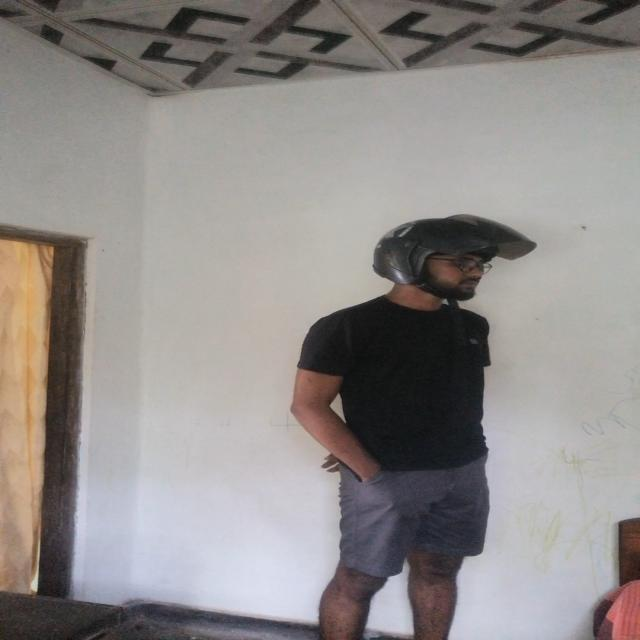Helmet_Wearer: (364, 214, 536, 323)
Person: (286, 213, 523, 640)
